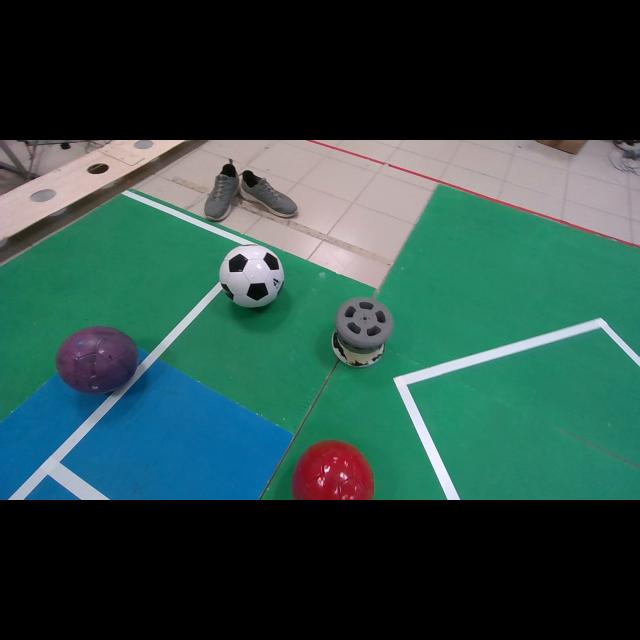P: (56, 326, 139, 394)
R: (292, 440, 374, 500)
